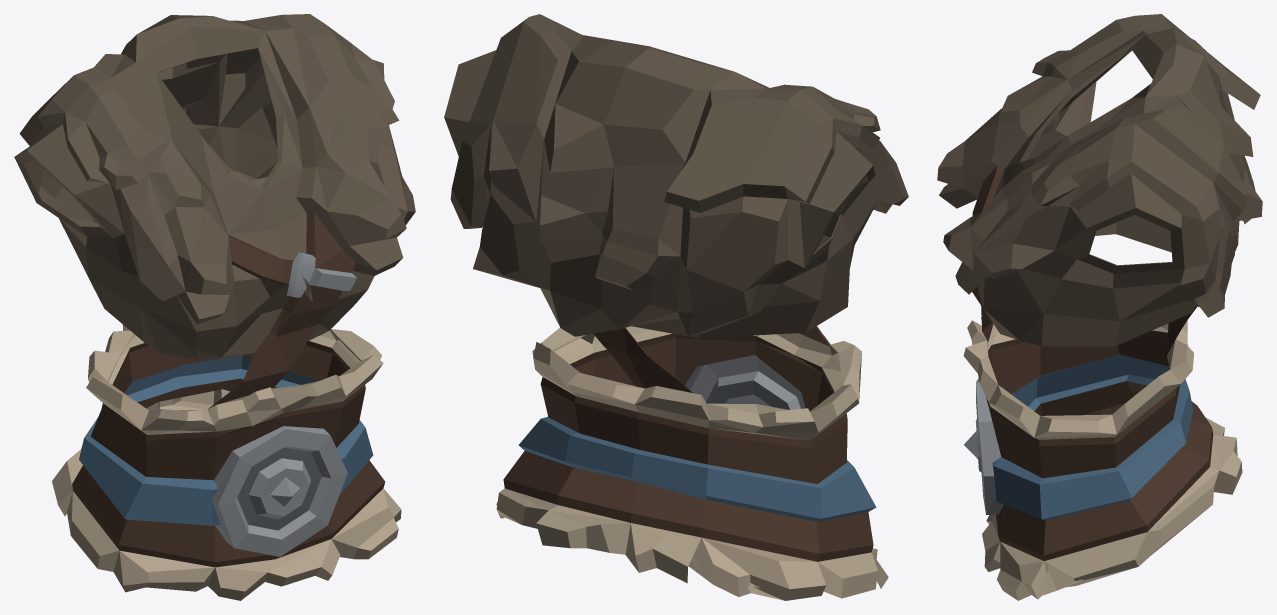
The model's file is Chr_Torso_Female_02_Drop.fbx.
3 renders of one model, left to right at view 1: azimuth 30°, elevation 25°; view 2: azimuth 150°, elevation 25°; view 3: azimuth 270°, elevation 25°, orthographic. The views are drawn at different scales.
Visible parts, largest first — view 1: Chr_Torso_Female_02_Static; view 2: Chr_Torso_Female_02_Static; view 3: Chr_Torso_Female_02_Static.
Boxes of the visible parts, x1,y1,x2,y2 form: Chr_Torso_Female_02_Static: (14, 14, 415, 600); Chr_Torso_Female_02_Static: (444, 14, 908, 600); Chr_Torso_Female_02_Static: (937, 14, 1262, 600).
Size of the model in its own units: 51.72 by 70.3 by 41.23.
